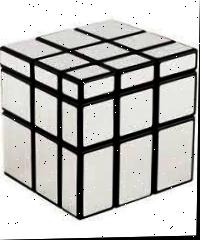cube: (0, 20, 199, 219)
